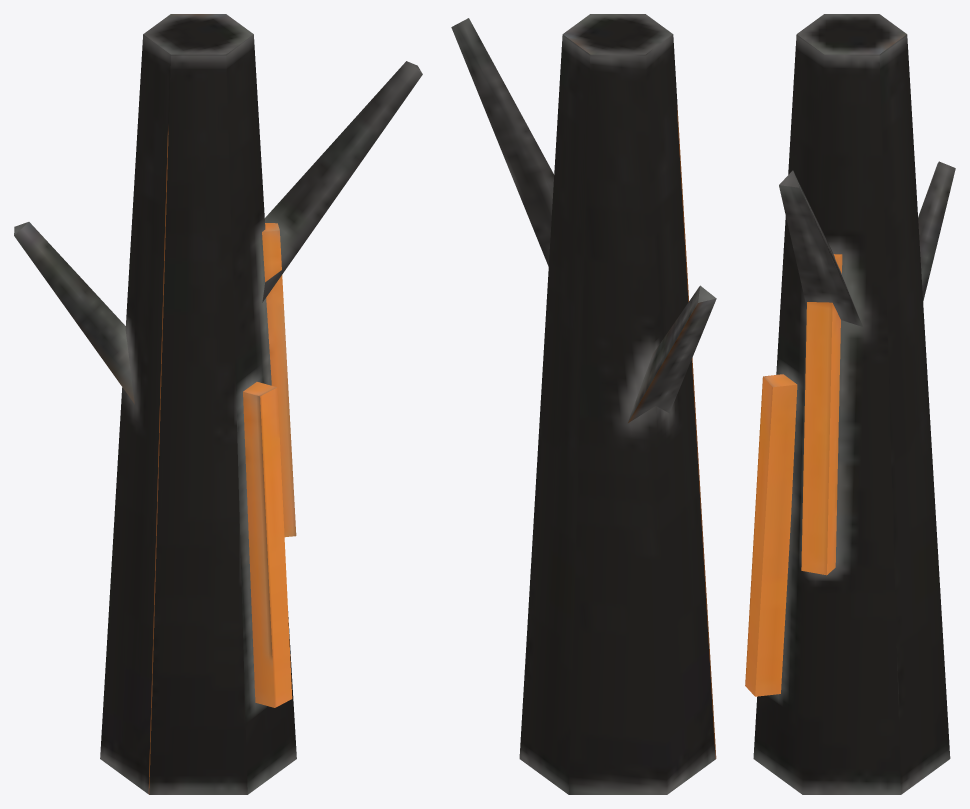
The model's file is charred_tree_ember_0.glb.
3 views of the same model, side by side, from view 1: azimuth 30°, elevation 25°; view 2: azimuth 150°, elevation 25°; view 3: azimuth 270°, elevation 25° (orthographic).
Parts seen in each view (by area): view 1: te_prop_charred_tree_ember_0; view 2: te_prop_charred_tree_ember_0; view 3: te_prop_charred_tree_ember_0.
Boxes of the visible parts, x1,y1,x2,y2 form: te_prop_charred_tree_ember_0: (14,14,422,794); te_prop_charred_tree_ember_0: (451,14,716,794); te_prop_charred_tree_ember_0: (745,14,955,794).
Bounding box in the file's own units: 0.1256 × 0.26 × 0.0685.
Materials: 1 (1 with a texture image).
